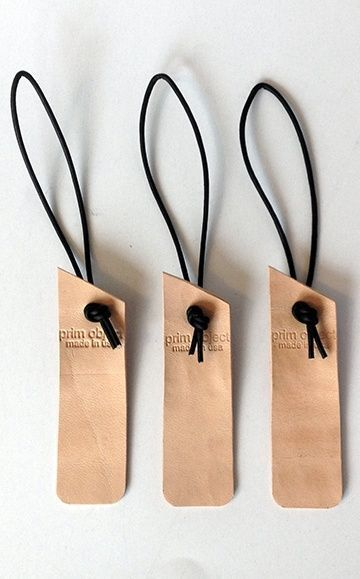cuero: (57, 264, 342, 508)
